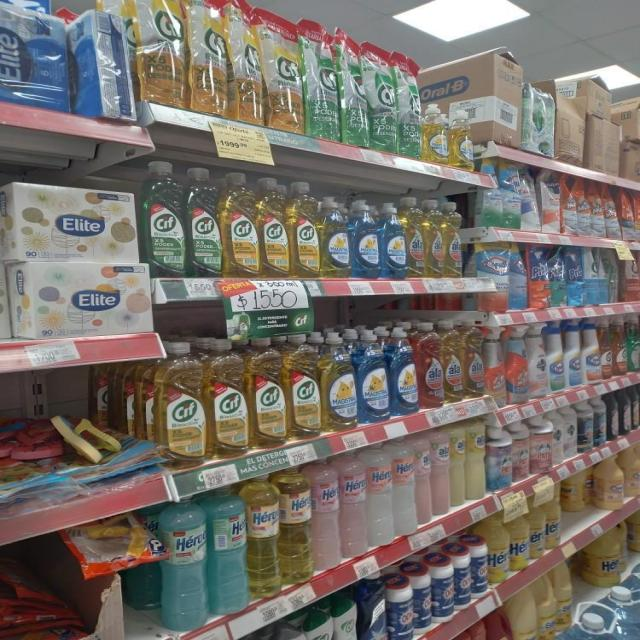ala_conc_amarillo: (463, 318, 485, 398), (443, 319, 463, 404), (424, 199, 444, 278), (444, 201, 463, 278), (406, 198, 424, 278)
ala_conc_rojo: (418, 322, 443, 410)
ala_crem_amarillo: (466, 418, 485, 501), (451, 421, 465, 508)
ala_crem_rosado: (432, 428, 449, 518), (416, 432, 432, 527)
cif_conc_bot_amarilla: (157, 340, 205, 466), (207, 339, 248, 458), (249, 337, 286, 449), (222, 172, 258, 278), (287, 332, 320, 440), (258, 177, 288, 277), (289, 180, 319, 277)
cif_conc_botella_roja: (601, 318, 613, 379)
cif_conc_botella_verde: (145, 161, 185, 278), (187, 166, 220, 278)
cif_conc_sachet_amarillo: (136, 0, 186, 106), (264, 7, 302, 131), (188, 0, 228, 115), (230, 0, 263, 124), (0, 166, 9, 267)
cif_conc_sachet_verde: (369, 41, 398, 152)
heroe: (159, 494, 208, 632), (208, 483, 248, 616), (248, 472, 279, 599), (280, 465, 312, 585), (312, 456, 340, 572), (340, 451, 367, 558), (367, 444, 393, 548), (394, 437, 416, 537)
magistral_con_amarillo: (322, 329, 356, 432), (320, 196, 350, 278), (422, 104, 449, 164)
magistral_con_azul: (358, 328, 389, 423), (390, 326, 417, 415), (350, 198, 380, 278), (568, 601, 622, 640), (381, 200, 406, 278)
